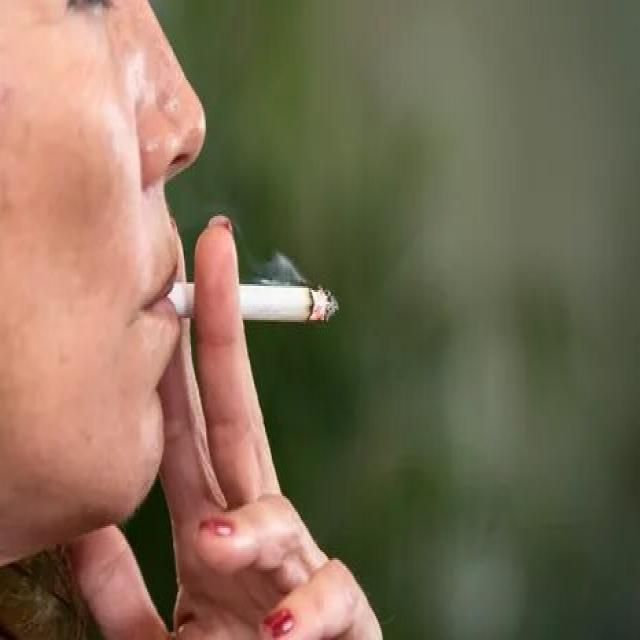smoke: (159, 254, 346, 332)
